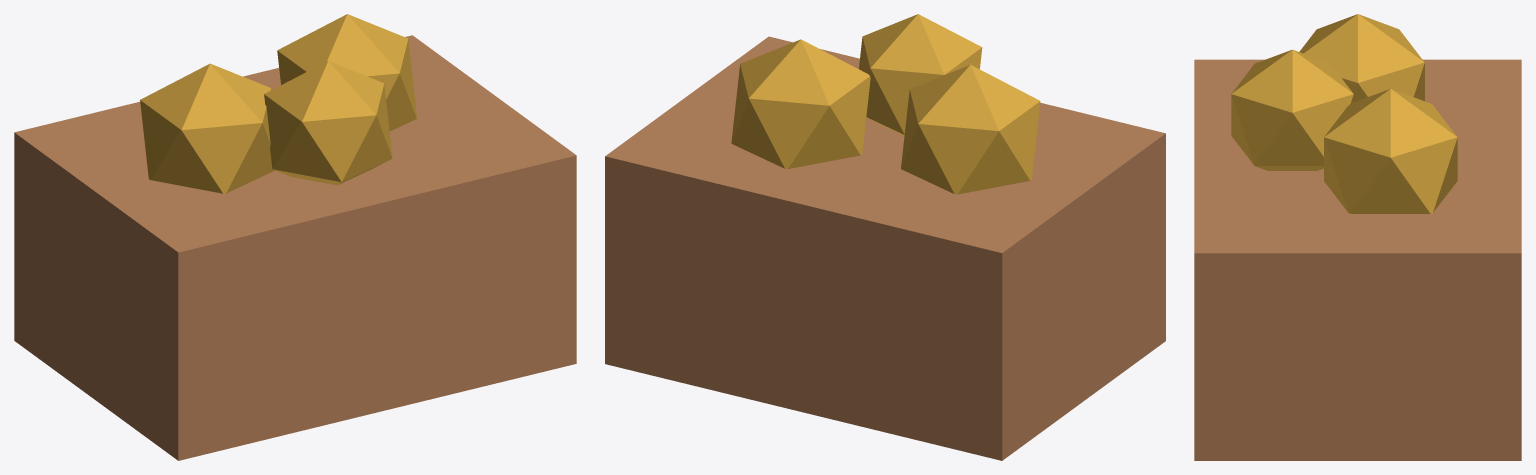
The model's file is prop_crate.fbx.
3 renders of one model, left to right at view 1: azimuth 30°, elevation 25°; view 2: azimuth 150°, elevation 25°; view 3: azimuth 270°, elevation 25°, orthographic.
Visible parts, largest first — view 1: prop_crate; view 2: prop_crate; view 3: prop_crate.
Part boxes in pixels (x1,y1,x2,y2): prop_crate: [14, 14, 576, 460]; prop_crate: [605, 14, 1165, 460]; prop_crate: [1194, 14, 1521, 460].
Bounding box in the file's own units: 0.7 × 0.53 × 0.5.
Materials: 1 (1 with a texture image).
